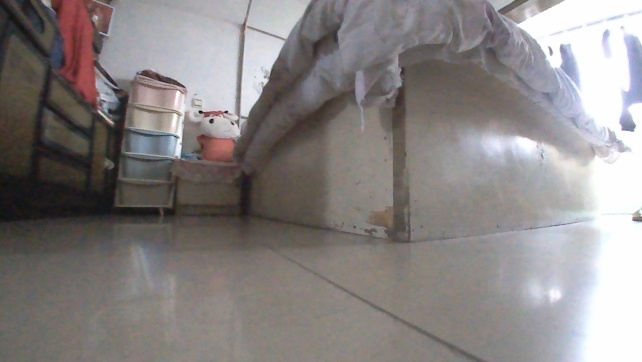bed1: (230, 0, 626, 246)
cabinet: (169, 155, 245, 219)
